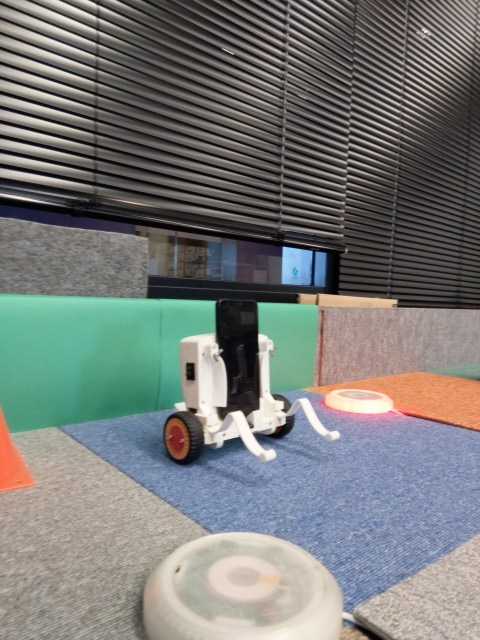f: (160, 292, 343, 468)
o: (136, 525, 344, 640)
r: (320, 383, 395, 419)
